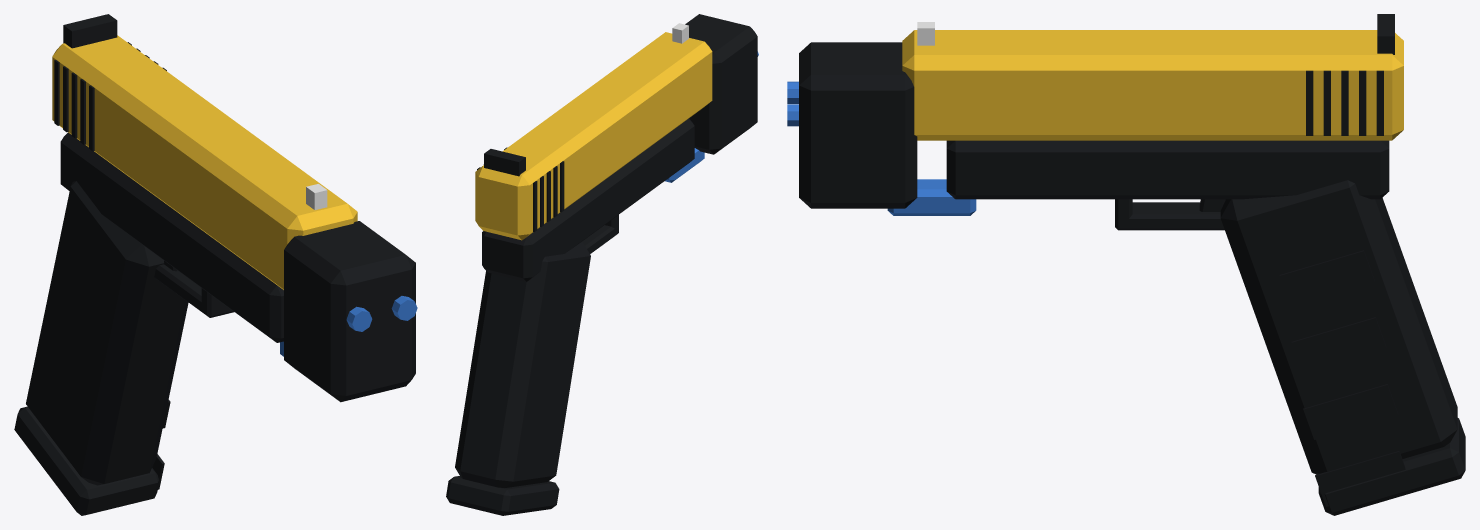
Rendered from Weapon_Taser.fbx.
3 views of the same model, side by side, from view 1: azimuth 30°, elevation 25°; view 2: azimuth 150°, elevation 25°; view 3: azimuth 270°, elevation 25° (orthographic). The views are drawn at different scales.
Parts seen in each view (by area): view 1: Grip.001, Slide.001, Cartridge, Frame.001, Magazine.001, RearSight.001, GuardBottom.001, GuardFront.001, FrontSight.001, Electrode, Electrode.001, Serration.007; view 2: Grip.001, Slide.001, Frame.001, Cartridge, Magazine.001, RearSight.001, GuardBottom.001; view 3: Slide.001, Grip.001, Frame.001, Cartridge, Magazine.001, GripTexture.004, GripTexture.006, GripTexture.005, GuardBottom.001, Laser, GripTexture.007.
Part boxes in pixels (x1,y1,x2,y2): Grip.001: (26, 181, 188, 485); Slide.001: (52, 35, 357, 289); Cartridge: (284, 221, 415, 402); Frame.001: (60, 132, 283, 342); Magazine.001: (14, 406, 158, 515); RearSight.001: (63, 14, 117, 48); GuardBottom.001: (154, 264, 202, 312); GuardFront.001: (201, 288, 233, 317); FrontSight.001: (306, 184, 327, 209); Electrode: (346, 306, 372, 331); Electrode.001: (391, 296, 417, 320); Serration.007: (71, 55, 149, 138); Grip.001: (455, 241, 590, 487); Slide.001: (475, 32, 712, 240); Frame.001: (482, 118, 694, 281); Cartridge: (685, 14, 757, 154); Magazine.001: (446, 476, 559, 515); RearSight.001: (484, 149, 525, 176); GuardBottom.001: (582, 225, 615, 253); Slide.001: (902, 30, 1403, 140); Grip.001: (1220, 180, 1457, 474); Frame.001: (946, 140, 1389, 199); Cartridge: (799, 42, 917, 208); Magazine.001: (1318, 418, 1465, 515); GripTexture.004: (1279, 250, 1374, 306); GripTexture.006: (1303, 384, 1398, 439); GripTexture.005: (1291, 317, 1386, 373); GuardBottom.001: (1127, 202, 1224, 230); Laser: (887, 179, 976, 215); GripTexture.007: (1315, 451, 1405, 506).
Size of the model in its own units: 0.034 by 0.1772 by 0.2299.
